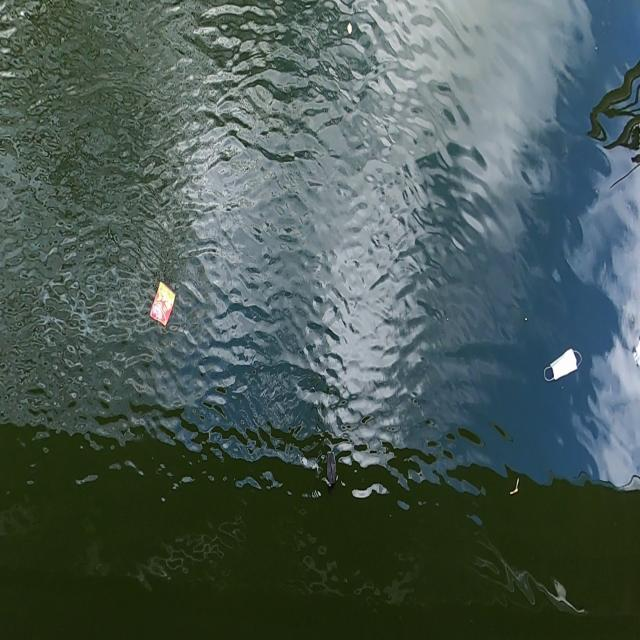Autre plastique: (148, 280, 178, 331)
Non plastique: (539, 344, 584, 385)
